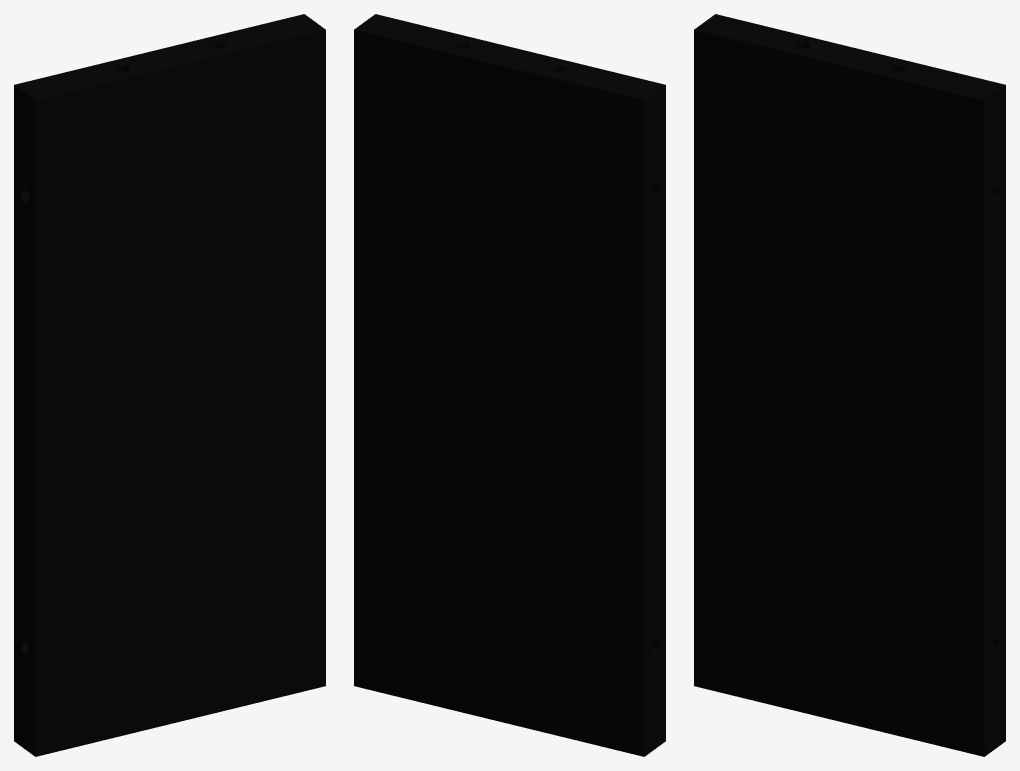
Rendered from Panel_125x270_UV.glb.
3 views of the same model, side by side, from view 1: azimuth 30°, elevation 25°; view 2: azimuth 150°, elevation 25°; view 3: azimuth 330°, elevation 25° (orthographic).
Parts seen in each view (by area): view 1: Panel_125x270; view 2: Panel_125x270; view 3: Panel_125x270.
Part boxes in pixels (x1=…): Panel_125x270: x1=14, y1=14, x2=325, y2=756; Panel_125x270: x1=354, y1=14, x2=665, y2=756; Panel_125x270: x1=694, y1=14, x2=1005, y2=756.
Size of the model in its own units: 0.125 by 0.27 by 0.016.
Materials: 1 (1 with a texture image).
